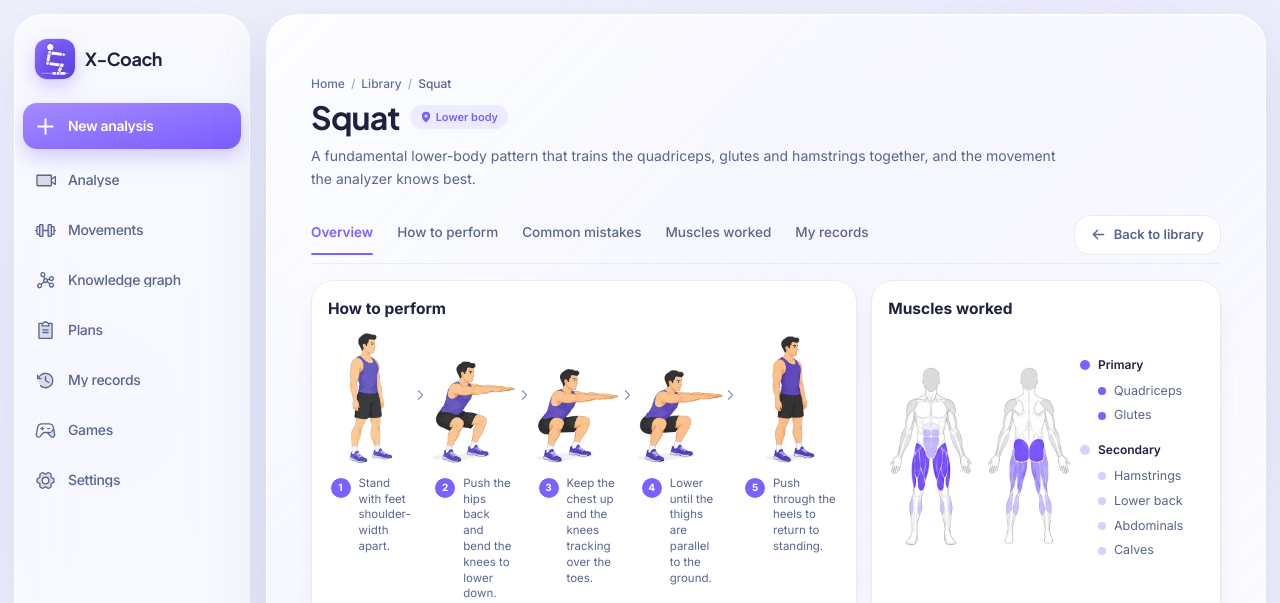
Test: MovementDetail — common mistakes › fetches a fault's causes, risks and cues only when it is opened, by its detector's kg_query
Click the tab "Common mistakes".
click(582, 239)  # box [522, 222, 642, 255]
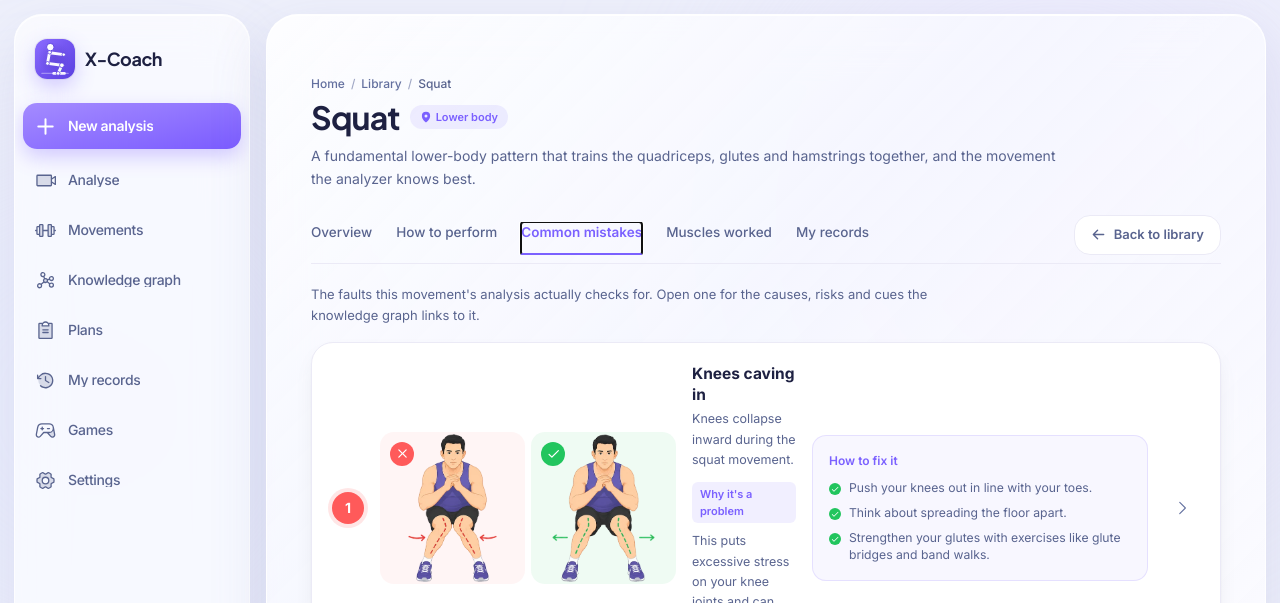
Now the heading "Knees caving in" is shown, box [692, 363, 796, 405]
Click the button named "Knees caving in".
click(1182, 508)  # box [1164, 490, 1200, 526]
(page scrolled)
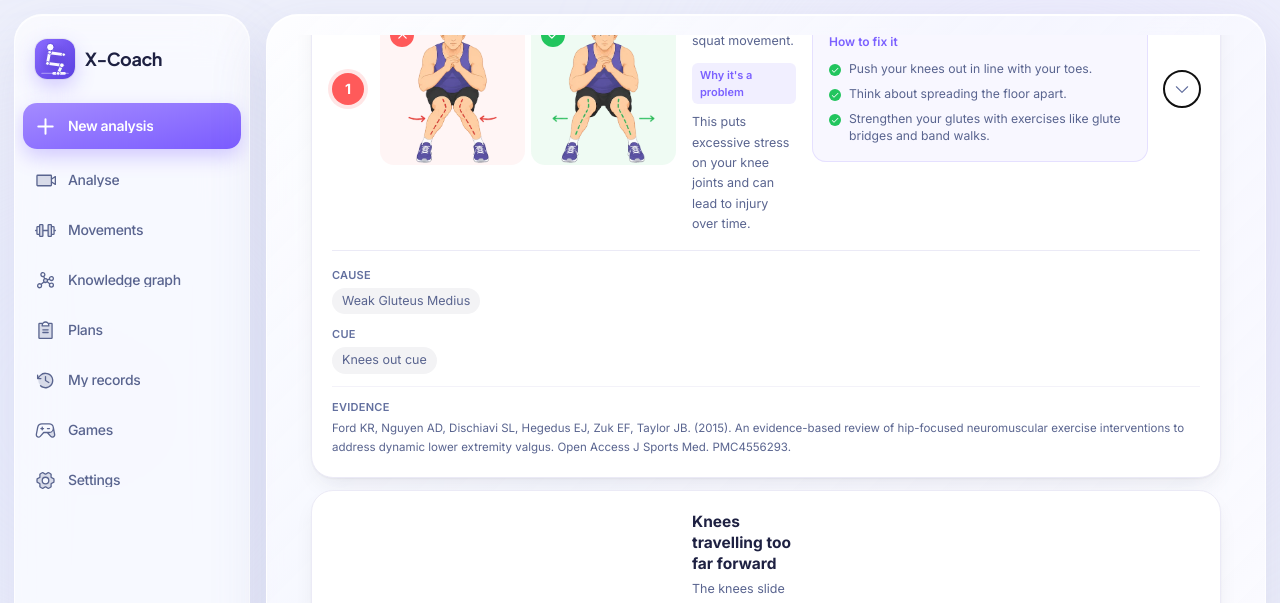
Now the list item "Weak Gluteus Medius" is shown, box [332, 288, 480, 314]
Now the list item "Knees out cue" is shown, box [332, 347, 437, 374]
